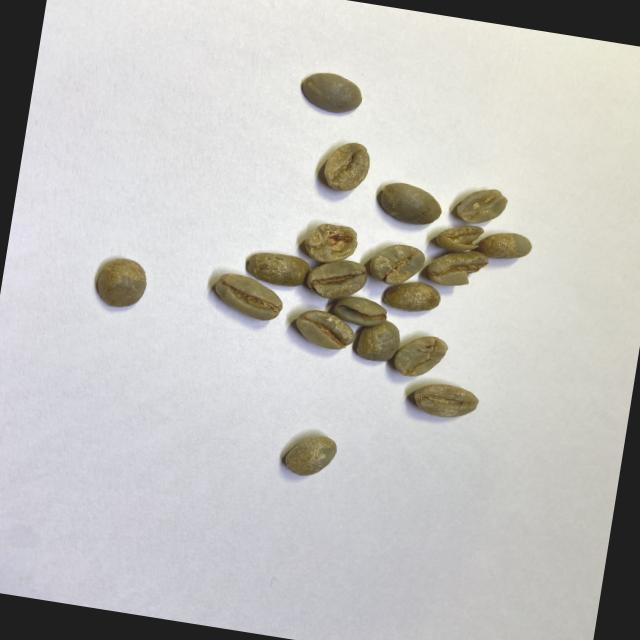bad: (392, 330, 449, 383), (424, 248, 491, 292), (454, 183, 510, 230), (304, 220, 360, 266), (432, 220, 484, 257)
good: (209, 270, 286, 324), (92, 254, 150, 314), (298, 68, 366, 118), (376, 180, 445, 229), (318, 137, 374, 196), (304, 254, 370, 304), (291, 306, 358, 354), (280, 429, 338, 481), (412, 380, 481, 423), (244, 249, 312, 290), (368, 240, 426, 288), (353, 316, 403, 364), (381, 277, 442, 315), (328, 292, 388, 330), (475, 228, 534, 264)
